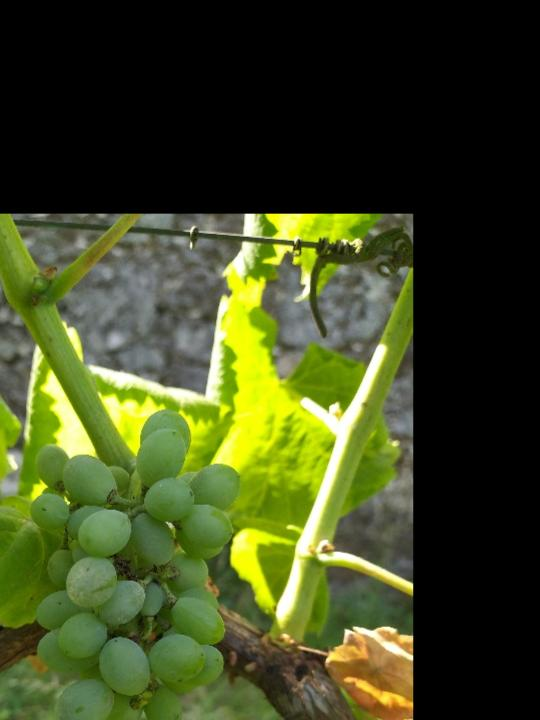grape: (29, 406, 246, 720)
